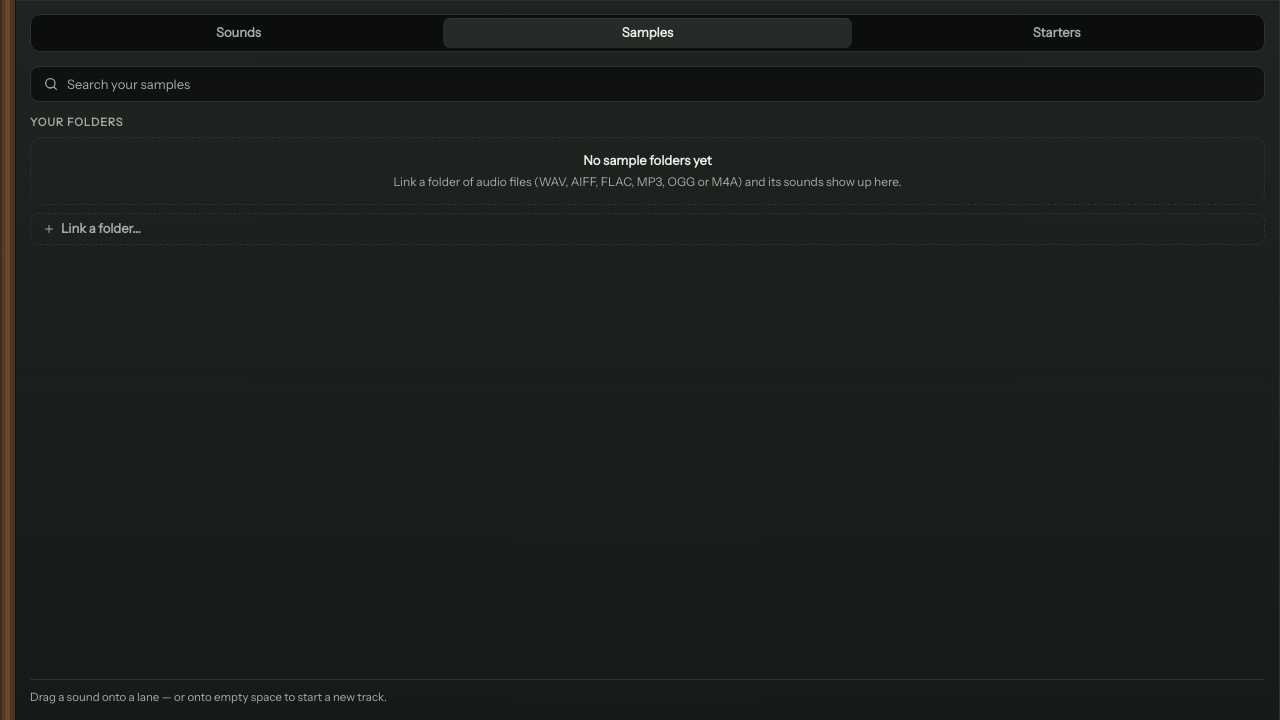
it: LibraryPanel › should link a folder chosen in the native dialog
Check: the text "No sample folders yet" is shown, box [583,152,712,170]
Click the button "Link a folder…" at (101, 228), box [30,213,1265,245]
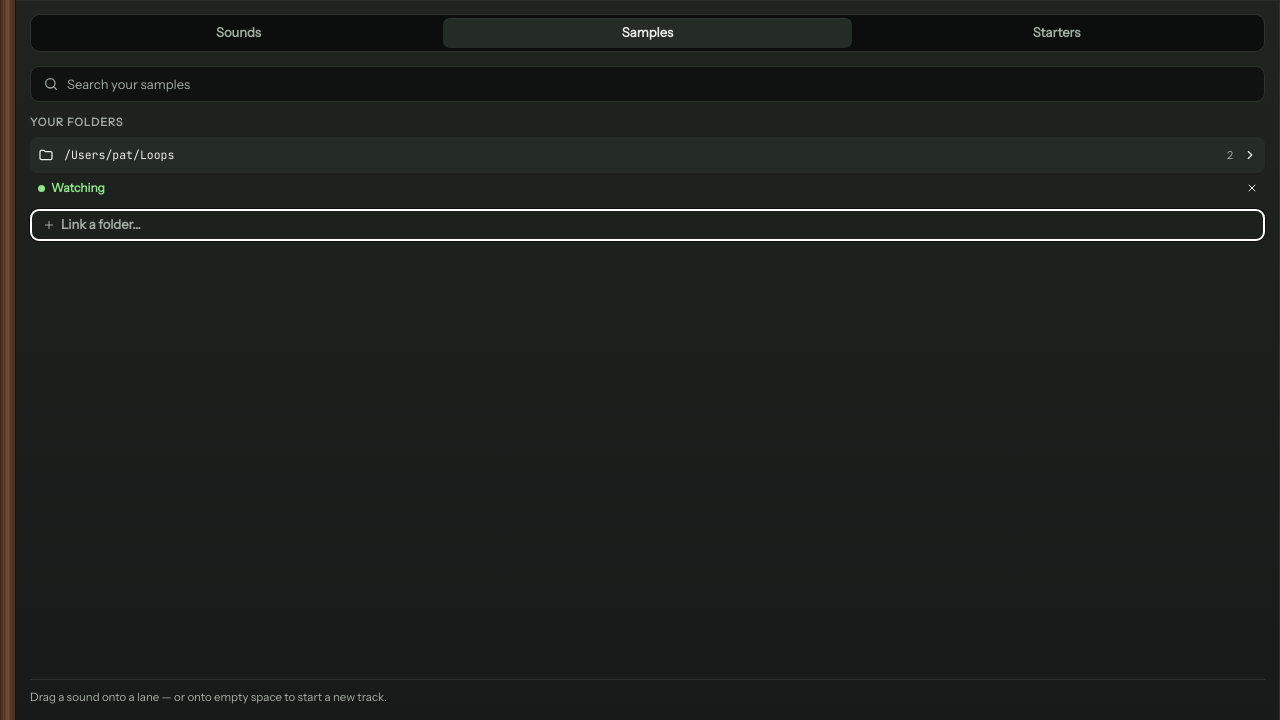
Check: the button "/Users/pat/Loops 2" is shown, box [30,137,1265,173]
